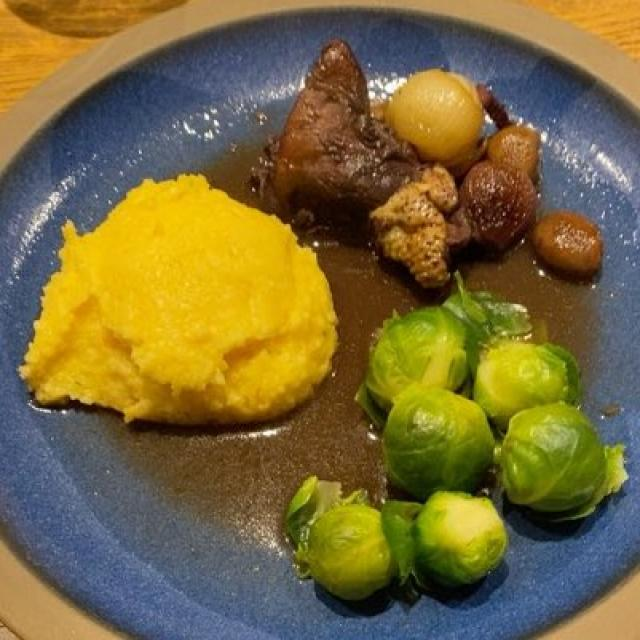brussel-sprouts: (295, 301, 631, 609)
chicken: (253, 59, 554, 295)
grits-polenta-maize-flour: (26, 198, 319, 427)
onion: (406, 83, 498, 172)
